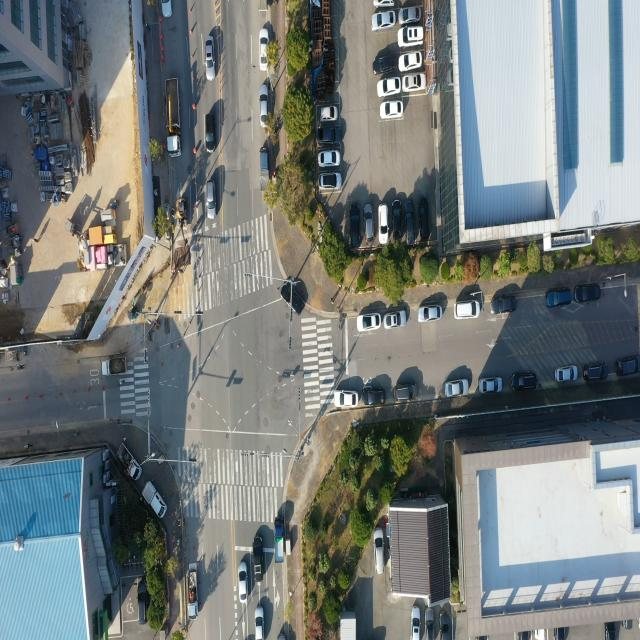car: (280, 282, 304, 316), (616, 354, 640, 378), (398, 27, 424, 47), (545, 289, 572, 308), (374, 54, 397, 76), (372, 10, 397, 30), (575, 284, 601, 303), (378, 78, 401, 99), (455, 301, 480, 320), (383, 311, 408, 330), (349, 205, 360, 248), (490, 298, 516, 316), (381, 100, 404, 120), (253, 532, 263, 578), (374, 528, 384, 574), (445, 380, 470, 398), (418, 306, 442, 324), (334, 390, 358, 408), (511, 374, 536, 391), (582, 362, 608, 378), (258, 29, 268, 70), (399, 53, 420, 72), (318, 127, 339, 146), (318, 148, 340, 166), (358, 314, 380, 332), (556, 364, 578, 382), (363, 205, 374, 241), (205, 38, 214, 82), (404, 73, 425, 91), (319, 173, 340, 191), (399, 6, 421, 23), (425, 607, 436, 640), (239, 563, 248, 603), (261, 83, 270, 123), (419, 199, 428, 239), (364, 390, 386, 406), (480, 378, 502, 394), (393, 385, 415, 401), (207, 180, 216, 218), (392, 202, 402, 236), (254, 608, 264, 640), (405, 202, 413, 242), (412, 607, 421, 640), (440, 607, 449, 640), (160, 0, 174, 21), (320, 105, 337, 122), (380, 205, 389, 237), (207, 113, 214, 153), (555, 626, 569, 640), (374, 0, 395, 7)
medium_truck: (165, 76, 182, 156)
small_truck: (142, 480, 167, 520), (118, 443, 141, 481), (185, 555, 198, 613), (258, 148, 272, 192), (102, 355, 128, 375), (274, 516, 284, 560)
